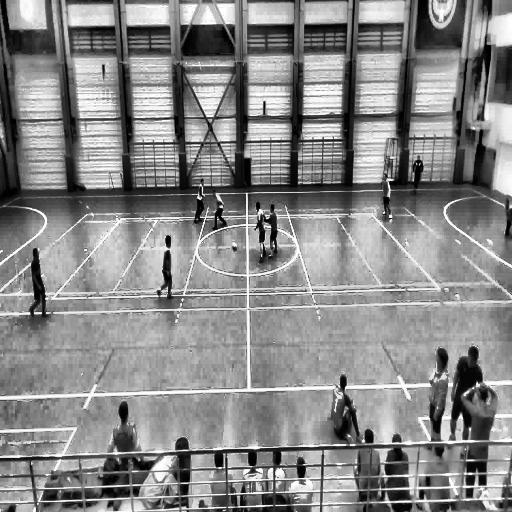ball: (232, 242, 238, 251)
player: (428, 347, 450, 454), (354, 427, 382, 510), (330, 374, 360, 444), (28, 246, 50, 319), (158, 234, 176, 300), (254, 202, 269, 264), (193, 178, 206, 224), (212, 191, 227, 230), (381, 171, 392, 219), (411, 154, 423, 194), (502, 193, 512, 238)
